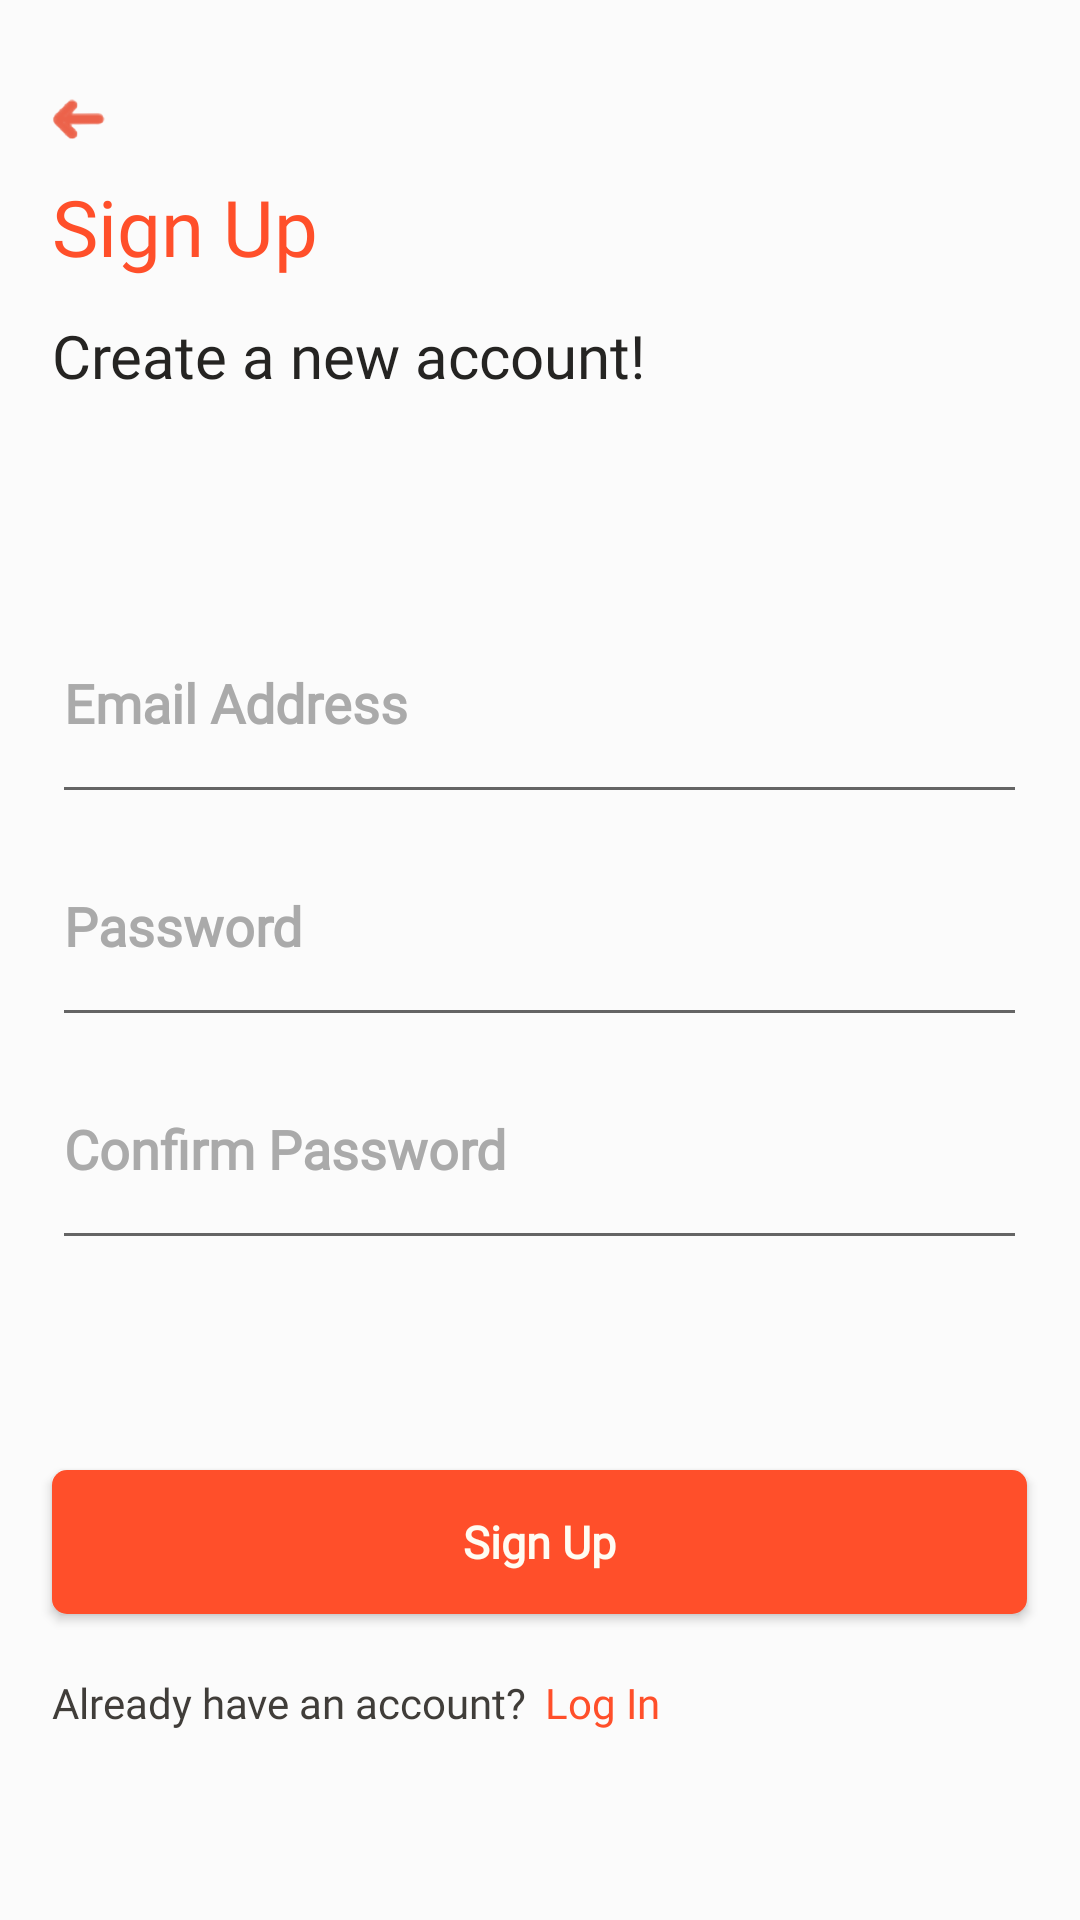

Icon bounding boxes for this 1080x1920 phone screenshot, format bbox=(x1, y1, x2, y2):
back arrow: bbox=(53, 99, 105, 139)
